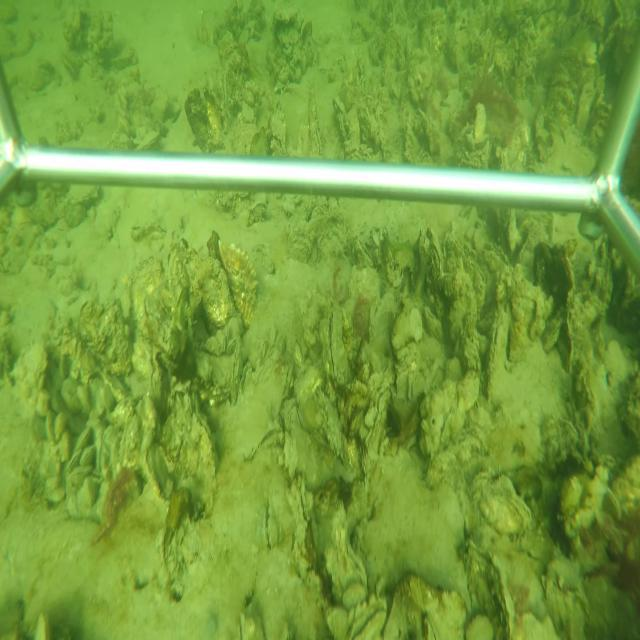Oyster-Closed: (162, 390, 218, 516), (363, 383, 392, 492), (320, 300, 352, 391), (486, 308, 510, 403), (98, 423, 117, 481), (131, 217, 170, 240)
Oyster-Indeterminate: (454, 535, 517, 635), (468, 470, 534, 539), (130, 254, 164, 340), (367, 290, 401, 373), (117, 408, 143, 473)
Oyster-Open: (345, 603, 386, 638), (258, 499, 278, 551)
